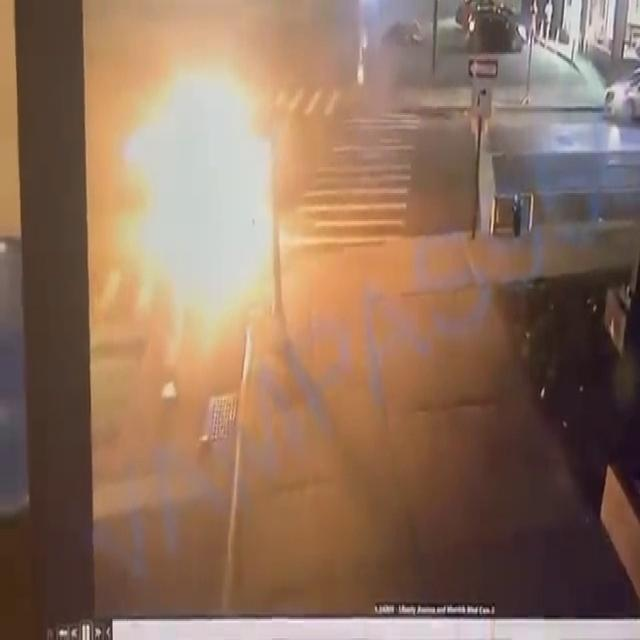Fire: (128, 68, 275, 355)
